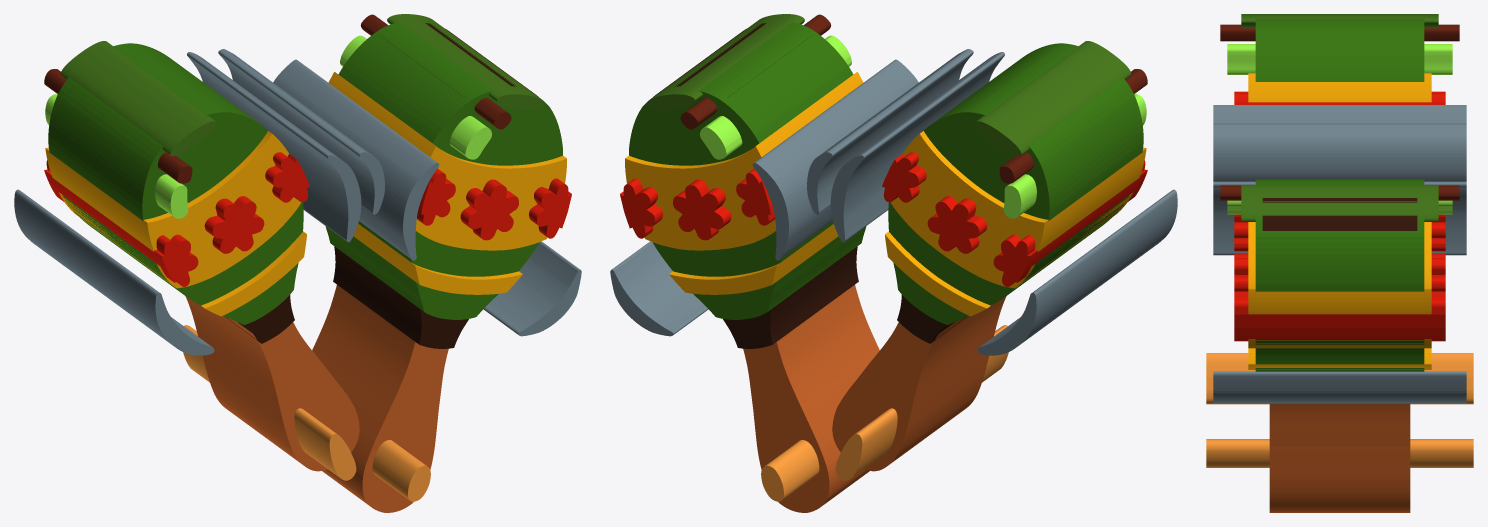
3 renders of one model, left to right at view 1: azimuth 30°, elevation 25°; view 2: azimuth 150°, elevation 25°; view 3: azimuth 270°, elevation 25°, orthographic. The views are drawn at different scales.
Visible parts, largest first — view 1: U+1FA87_layer02_obj00, U+1FA87_layer02_obj01, U+1FA87_layer00_obj00, U+1FA87_layer00_obj01, U+1FA87_layer03_obj01, U+1FA87_layer08_obj02, U+1FA87_layer03_obj07, U+1FA87_layer08_obj04, U+1FA87_layer04_obj00, U+1FA87_layer08_obj03, U+1FA87_layer08_obj00, U+1FA87_layer08_obj01 (+17 smaller); view 2: U+1FA87_layer02_obj00, U+1FA87_layer02_obj01, U+1FA87_layer00_obj00, U+1FA87_layer00_obj01, U+1FA87_layer03_obj01, U+1FA87_layer08_obj02, U+1FA87_layer03_obj07, U+1FA87_layer08_obj04, U+1FA87_layer04_obj00, U+1FA87_layer08_obj03, U+1FA87_layer08_obj00, U+1FA87_layer08_obj01 (+17 smaller); view 3: U+1FA87_layer02_obj01, U+1FA87_layer00_obj00, U+1FA87_layer08_obj01, U+1FA87_layer02_obj00, U+1FA87_layer08_obj00, U+1FA87_layer03_obj07, U+1FA87_layer05_obj04, U+1FA87_layer04_obj01, U+1FA87_layer08_obj03, U+1FA87_layer03_obj01, U+1FA87_layer09_obj01, U+1FA87_layer01_obj02 (+11 smaller).
Boxes of the visible parts, x1=… form: U+1FA87_layer02_obj00: x1=48, y1=43, x2=303, y2=324; U+1FA87_layer02_obj01: x1=325, y1=22, x2=562, y2=319; U+1FA87_layer00_obj00: x1=312, y1=285, x2=448, y2=512; U+1FA87_layer00_obj01: x1=185, y1=296, x2=359, y2=471; U+1FA87_layer03_obj01: x1=45, y1=131, x2=301, y2=288; U+1FA87_layer08_obj02: x1=273, y1=59, x2=439, y2=260; U+1FA87_layer03_obj07: x1=328, y1=72, x2=566, y2=250; U+1FA87_layer08_obj04: x1=14, y1=189, x2=214, y2=355; U+1FA87_layer04_obj00: x1=60, y1=41, x2=216, y2=155; U+1FA87_layer08_obj03: x1=187, y1=52, x2=361, y2=242; U+1FA87_layer08_obj00: x1=483, y1=241, x2=581, y2=336; U+1FA87_layer08_obj01: x1=218, y1=49, x2=384, y2=214; U+1FA87_layer02_obj00: x1=888, y1=43, x2=1143, y2=324; U+1FA87_layer02_obj01: x1=629, y1=22, x2=866, y2=319; U+1FA87_layer00_obj00: x1=743, y1=285, x2=879, y2=512; U+1FA87_layer00_obj01: x1=832, y1=296, x2=1006, y2=471; U+1FA87_layer03_obj01: x1=890, y1=131, x2=1146, y2=288; U+1FA87_layer08_obj02: x1=752, y1=59, x2=918, y2=260; U+1FA87_layer03_obj07: x1=625, y1=72, x2=863, y2=250; U+1FA87_layer08_obj04: x1=977, y1=189, x2=1177, y2=355; U+1FA87_layer04_obj00: x1=975, y1=41, x2=1131, y2=155; U+1FA87_layer08_obj03: x1=830, y1=52, x2=1004, y2=242; U+1FA87_layer08_obj00: x1=610, y1=241, x2=708, y2=336; U+1FA87_layer08_obj01: x1=807, y1=49, x2=973, y2=214; U+1FA87_layer02_obj01: x1=1255, y1=179, x2=1424, y2=371; U+1FA87_layer00_obj00: x1=1269, y1=403, x2=1410, y2=512; U+1FA87_layer08_obj01: x1=1213, y1=123, x2=1466, y2=181; U+1FA87_layer02_obj00: x1=1255, y1=18, x2=1424, y2=81; U+1FA87_layer08_obj00: x1=1213, y1=371, x2=1466, y2=403; U+1FA87_layer03_obj07: x1=1248, y1=222, x2=1431, y2=348; U+1FA87_layer05_obj04: x1=1234, y1=297, x2=1445, y2=341; U+1FA87_layer04_obj01: x1=1241, y1=185, x2=1438, y2=221; U+1FA87_layer08_obj03: x1=1213, y1=105, x2=1466, y2=123; U+1FA87_layer03_obj01: x1=1248, y1=73, x2=1431, y2=102; U+1FA87_layer09_obj01: x1=1206, y1=439, x2=1473, y2=467; U+1FA87_layer01_obj02: x1=1262, y1=198, x2=1417, y2=230.
Bounding box in the file's own units: 0.3175 × 0.3171 × 0.19.
